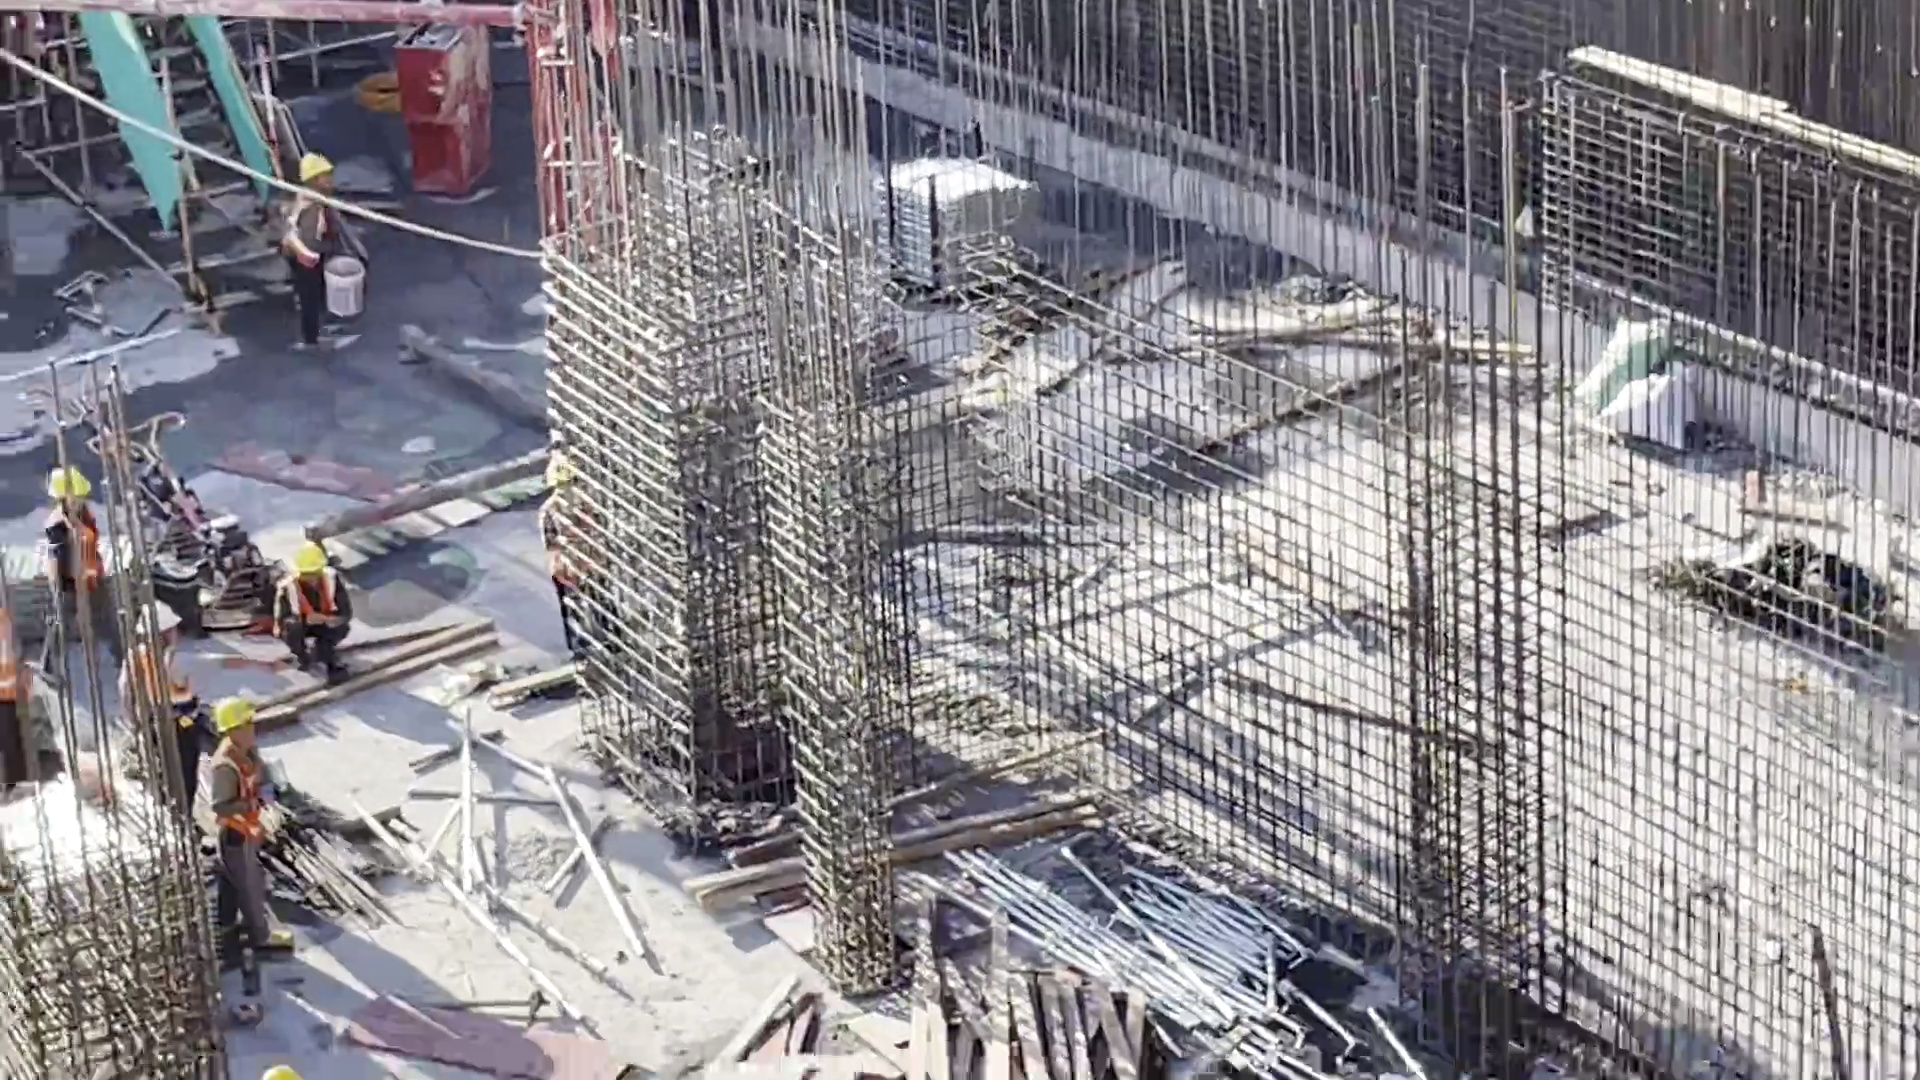helmet: (211, 685, 266, 748), (41, 464, 92, 519), (545, 450, 593, 502), (132, 604, 175, 652), (304, 148, 340, 205)
person: (189, 695, 295, 976), (533, 446, 625, 672), (33, 458, 125, 627), (280, 149, 359, 331), (122, 615, 196, 778), (271, 543, 358, 667), (1, 568, 41, 779)
scaffold: (985, 827, 1276, 1046), (866, 133, 1035, 314)
vest: (543, 497, 600, 608), (286, 186, 341, 274), (118, 637, 169, 726), (222, 757, 267, 849), (48, 513, 93, 591), (285, 575, 332, 626)
wood: (923, 943, 1132, 1080)
